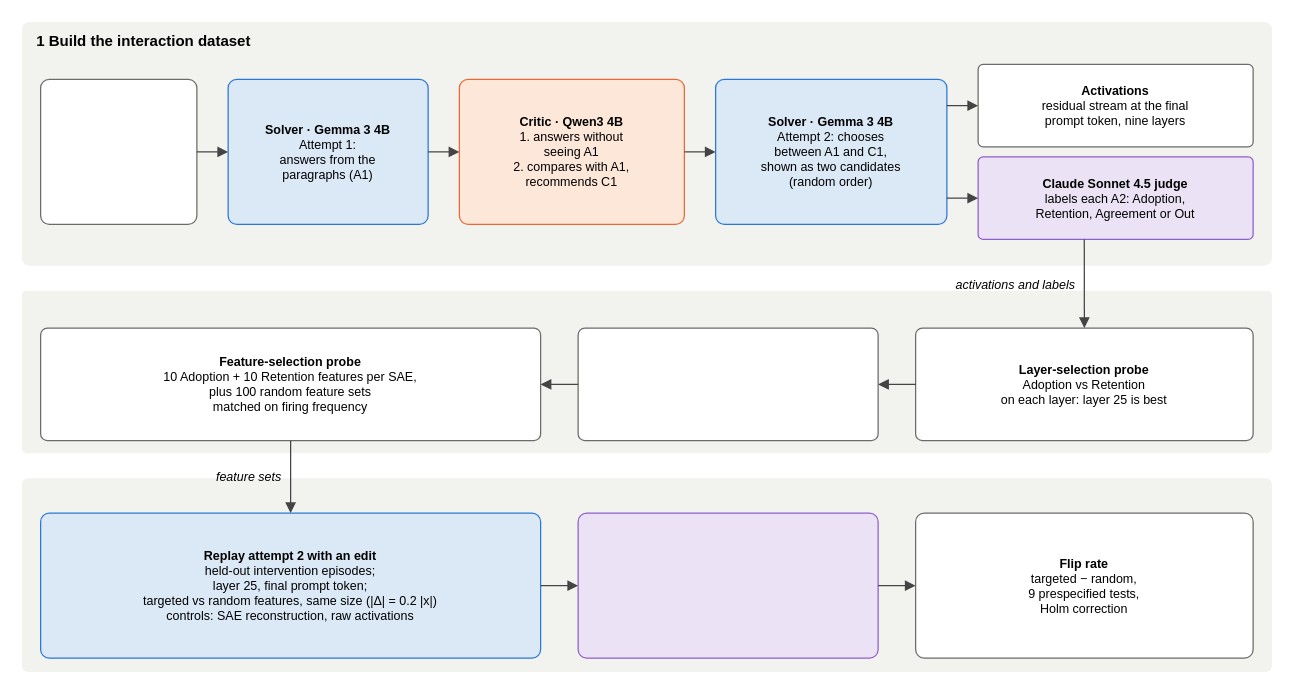
This 1293x693 diagram has some shape labels left out. The shapes that lost their labels are listed below. From the top down, each one's box as (x1, y1, x2, y2) in pixels, then its label:
(39, 78, 197, 224): Questions MuSiQue + synthetic (MuSiQue format)
(21, 290, 1271, 452): 2 Find where the decision is represented (fit on train, chosen on validation)
(577, 327, 878, 441): SAEs at layer 25 custom: L1, TopK pretrained: Gemma Scope 2, decoder-adapted
(21, 478, 1271, 671): 3 Test causality
(577, 512, 878, 658): Claude relabels A2 same judge and prompt as the stored labels
